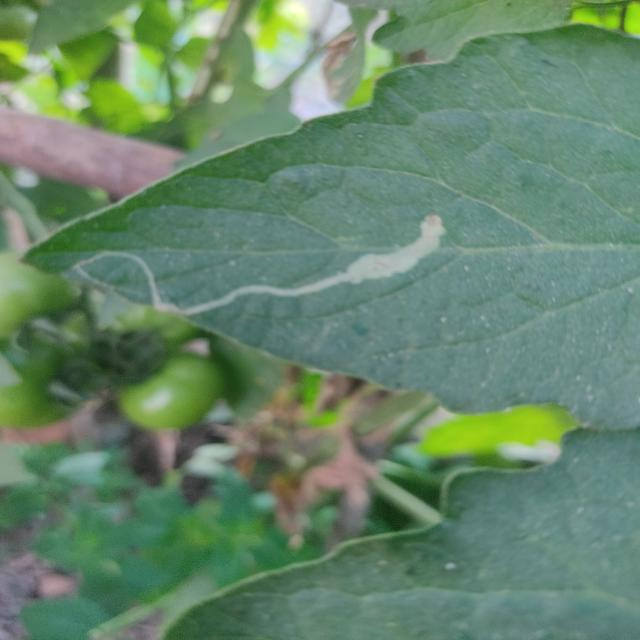Tuta absoluta: (73, 214, 452, 328)
